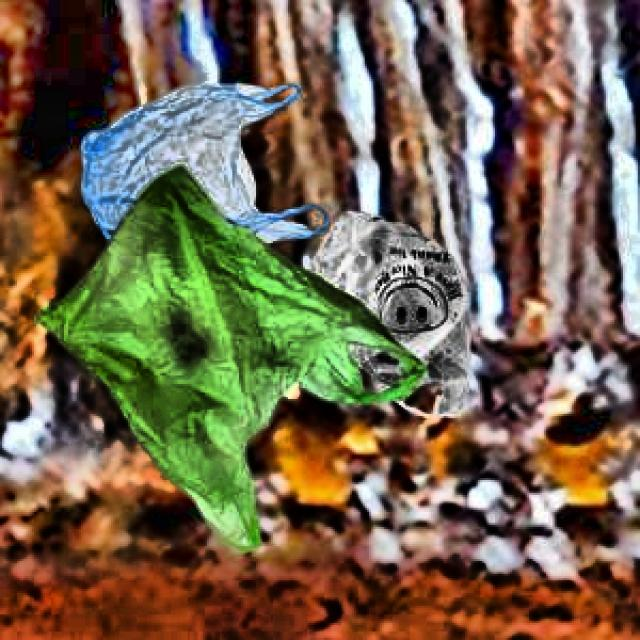Plastic: (33, 160, 420, 551), (52, 70, 336, 270)
